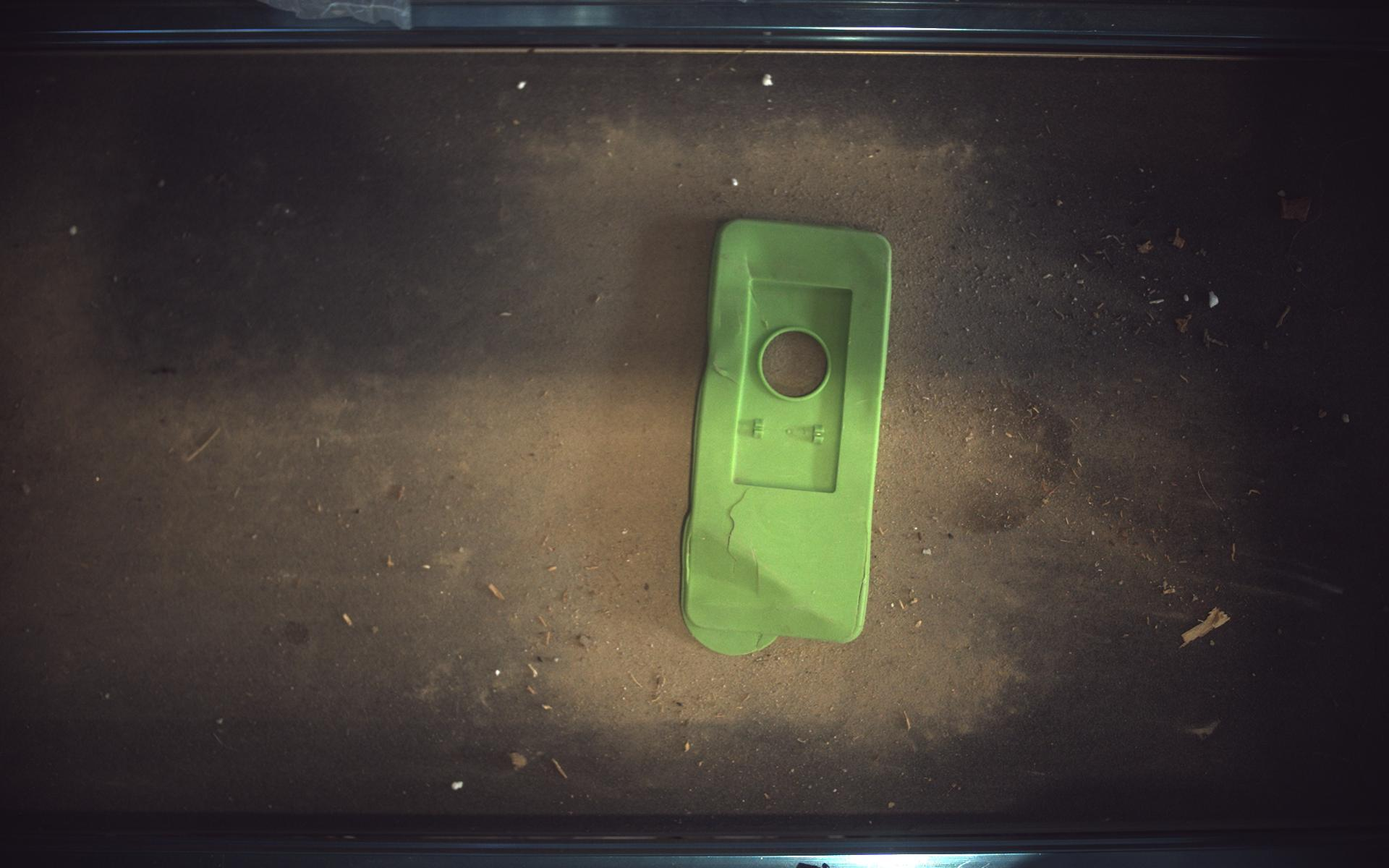plastic: (681, 219, 893, 656)
